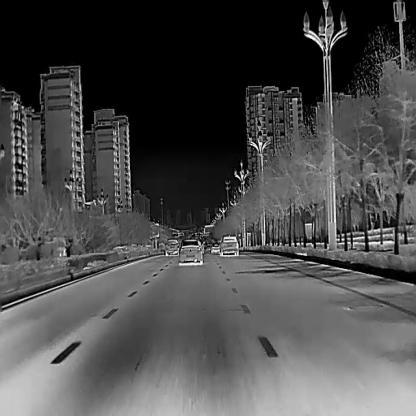car: (179, 238, 203, 265), (219, 233, 239, 256), (164, 237, 179, 256), (210, 242, 220, 254)
